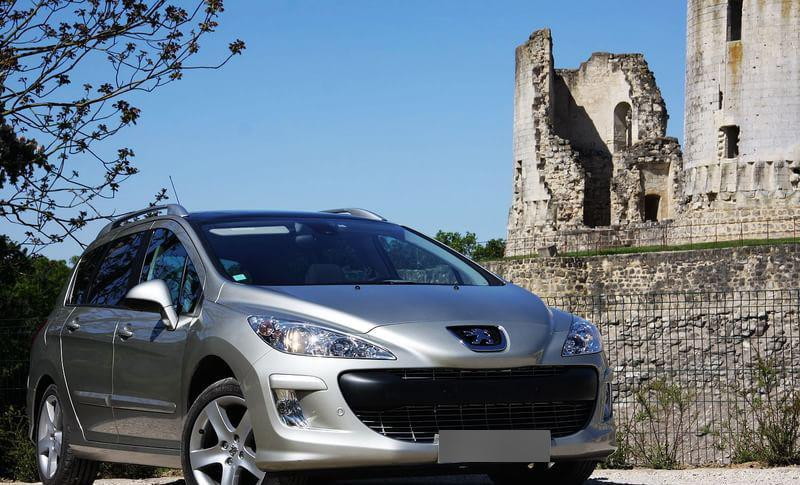Wagon: (26, 204, 619, 485)
